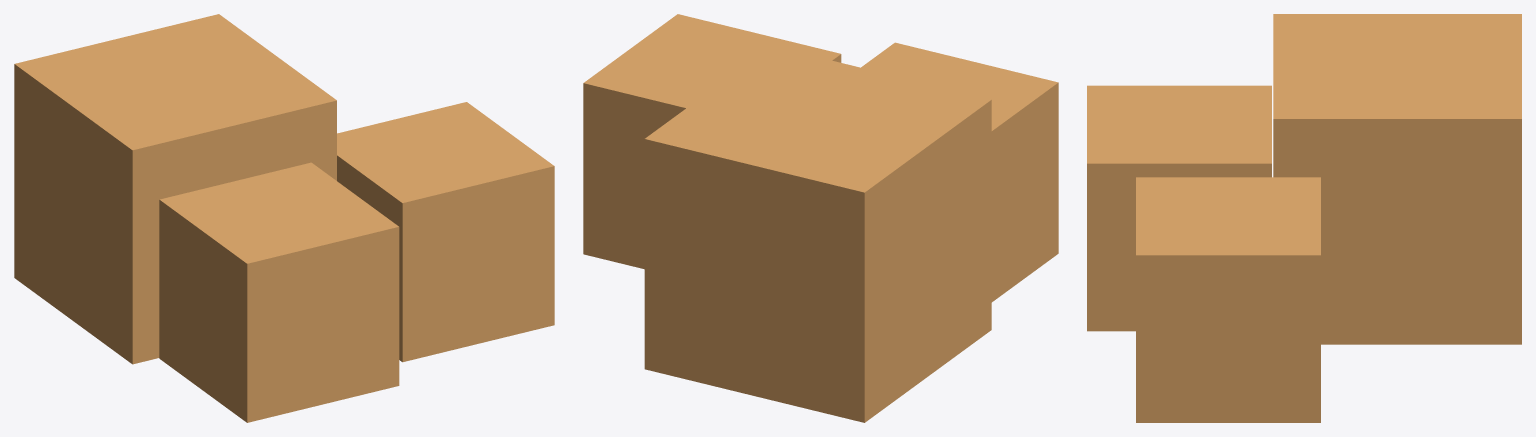
The picture shows the model from 3 angles, left to right: view 1: azimuth 30°, elevation 25°; view 2: azimuth 150°, elevation 25°; view 3: azimuth 270°, elevation 25°; orthographic projection. The views are drawn at different scales.
Parts seen in each view (by area): view 1: Cube.002; view 2: Cube.002; view 3: Cube.002.
Part boxes in pixels (left/top/right/bottom): Cube.002: left=14, top=14, right=554, bottom=422; Cube.002: left=583, top=14, right=1058, bottom=422; Cube.002: left=1087, top=14, right=1521, bottom=422.
Bounding box in the file's own units: 469 × 269 × 470.
